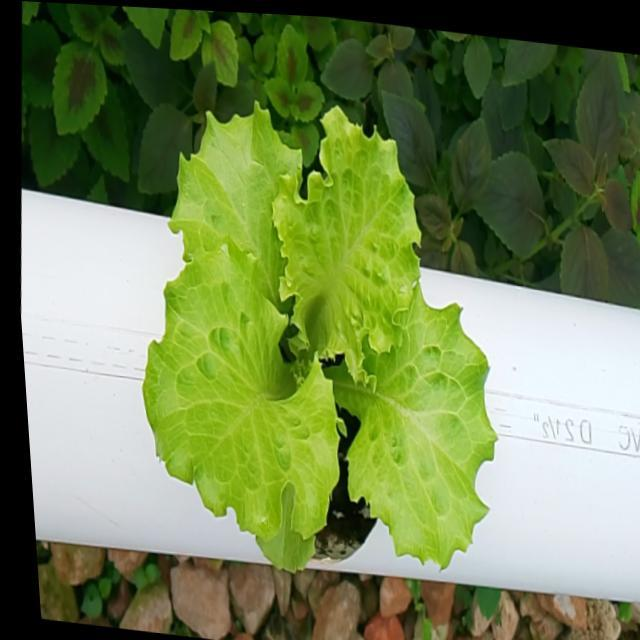Baby: (145, 94, 496, 560)
